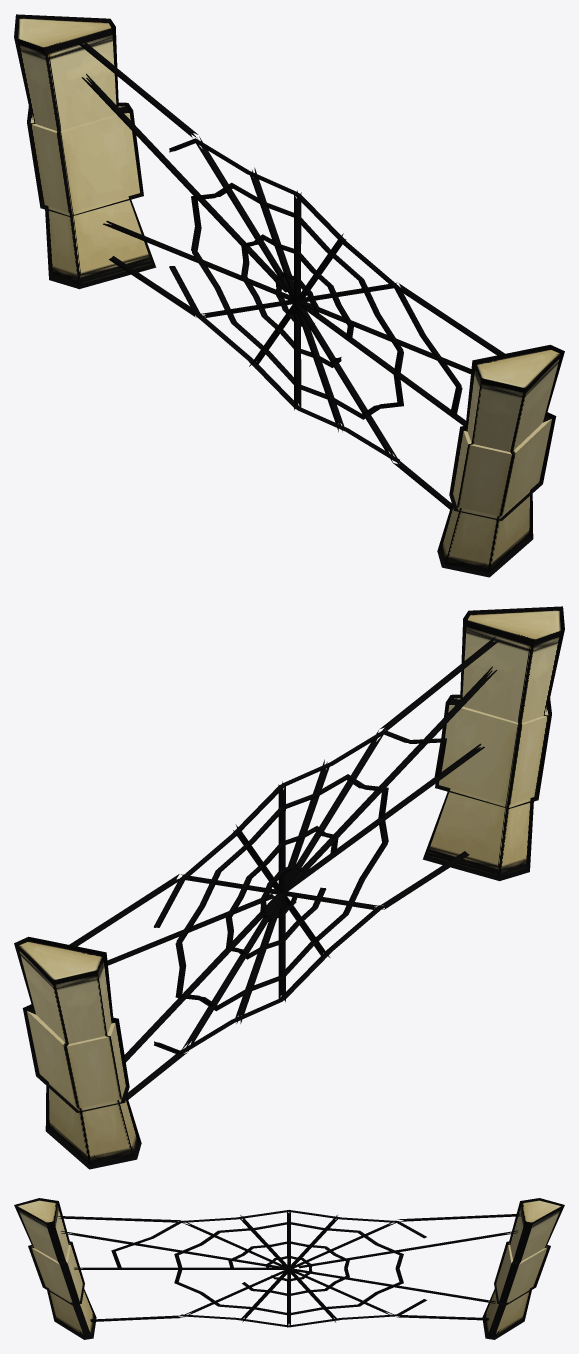
The model's file is bouncy_wall_state3.FBX.
3 renders of one model, top to bottom at view 1: azimuth 30°, elevation 25°; view 2: azimuth 150°, elevation 25°; view 3: azimuth 270°, elevation 25°, orthographic. The views are drawn at different scales.
Visible parts, largest first — view 1: Torus008, Box104; view 2: Torus008, Box104; view 3: Torus008, Box104.
Part boxes in pixels (box(x1,y1,x2,y2)): Torus008: box(17, 18, 560, 572); Box104: box(14, 14, 564, 577); Torus008: box(18, 610, 561, 1164); Box104: box(14, 606, 564, 1169); Torus008: box(16, 1200, 562, 1337); Box104: box(14, 1198, 564, 1339).
Bounding box in the file's own units: 0.2383 × 0.517 × 2.17.
2 materials, 1 textured.
